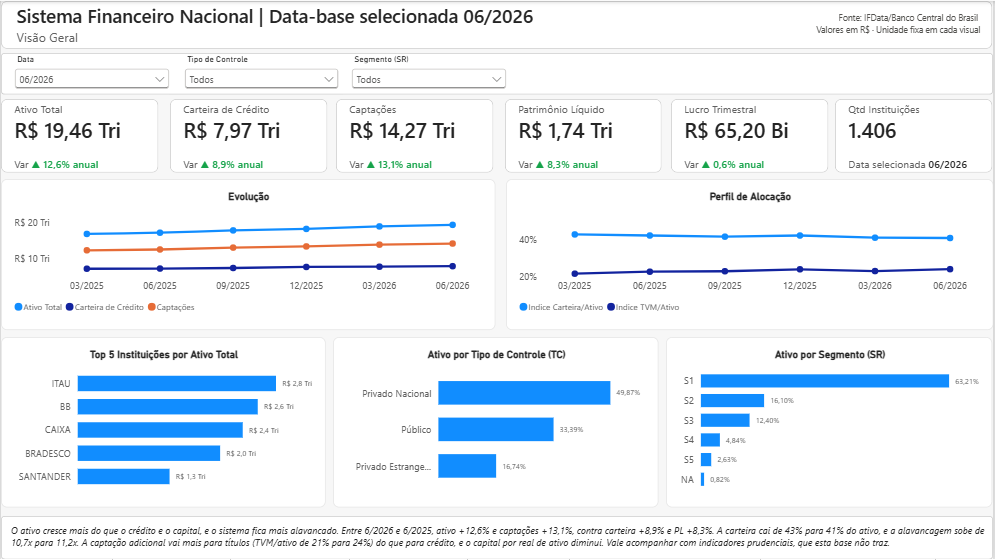

The dashboard page shown, as its layout file describes it:
{"tool":"powerbi","page":{"name":"Visão Geral","canvas":[1280,720],"ordinal":0},"visuals":[{"type":"shape","box":[0,664,1280,56],"z":0},{"type":"slicer","fields":{"Values":["dim_calendario.Rotulo"]},"box":[231.4,347.1,209.2,66.7],"z":1000},{"type":"shape","box":[0,0,1279.1,61.8],"z":2000},{"type":"shape","box":[0,66.7,1280,53.6],"z":3000},{"type":"cardVisual","fields":{"Data":["_Medidas.Titulo Pagina"]},"box":[3.8,0,747.5,61.2],"z":4000},{"type":"textbox","box":[1695,30,213.8,46.2],"z":5000},{"type":"slicer","fields":{"Values":["dim_calendario.Rotulo"]},"box":[12.7,68.5,209.1,51.8],"z":6000},{"type":"slicer","fields":{"Values":["fato_ifdata.Tipo de Controle"]},"box":[231.8,68.5,208.2,51.8],"z":7000},{"type":"slicer","fields":{"Values":["fato_ifdata.Segmento (SR)"]},"box":[447.3,68.5,209.1,51.8],"z":8000},{"type":"cardVisual","fields":{"Data":["_Medidas.Ativo Total"]},"box":[-0.1,126.5,203.9,95.5],"z":9000},{"type":"cardVisual","fields":{"Data":["_Medidas.Carteira de Crédito"]},"box":[217.9,126.5,203.9,95.5],"z":10000},{"type":"cardVisual","fields":{"Data":["_Medidas.Captações"]},"box":[432.1,126.5,203.9,95.5],"z":11000},{"type":"cardVisual","fields":{"Data":["_Medidas.Patrimônio Líquido"]},"box":[650,126.5,202.6,95.5],"z":12000},{"type":"cardVisual","fields":{"Data":["_Medidas.Qtd Instituições"]},"box":[1076.1,126.5,203.4,95.5],"z":13000},{"type":"lineChart","title":"Evolução","fields":{"Category":["dim_calendario.Rotulo"],"Y":["_Medidas.Ativo Total","_Medidas.Carteira de Crédito","_Medidas.Captações"]},"box":[0,230,637.5,195],"z":14000},{"type":"lineChart","title":"Perfil de Alocação","fields":{"Category":["dim_calendario.Rotulo"],"Y":["_Medidas.Indice Carteira/Ativo","_Medidas.Indice TVM/Ativo"]},"box":[651.2,230,628.8,195],"z":15000},{"type":"clusteredBarChart","title":"Top 5 Instituições por Ativo Total","fields":{"Category":["dim_instituicao.Instituição"],"Y":["_Medidas.Ativo Total"]},"box":[0,433.8,418.8,220],"z":16000},{"type":"clusteredBarChart","title":"Ativo por Tipo de Controle (TC)","fields":{"Category":["fato_ifdata.Tipo de Controle"],"Y":["_Medidas.% do Total Ativo"]},"box":[428.8,433.8,420,220],"z":17000},{"type":"clusteredBarChart","title":"Ativo por Segmento (SR)","fields":{"Category":["fato_ifdata.Segmento (SR)"],"Y":["_Medidas.% do Total Ativo"]},"box":[857.5,433.8,421.2,220],"z":18000},{"type":"textbox","box":[12.9,674.3,1265.7,45.7],"z":19000},{"type":"textbox","box":[1041.2,13.8,222.5,47.5],"z":20000},{"type":"cardVisual","fields":{"Data":["_Medidas.Lucro Trimestral"]},"box":[864.1,126.7,203.3,95.6],"z":21000}]}

Visuals, with their boxes in screenshot pixels (x1, y1, x2, y2), scaled from the page's 1280x720 canvas onto the 995x560 screenshot:
shape: BBox(0, 516, 994, 559)
slicer - dim_calendario.Rotulo: BBox(180, 270, 342, 322)
shape: BBox(0, 0, 994, 48)
shape: BBox(0, 52, 994, 94)
cardVisual - _Medidas.Titulo Pagina: BBox(3, 0, 584, 48)
slicer - dim_calendario.Rotulo: BBox(10, 53, 172, 94)
slicer - fato_ifdata.Tipo de Controle: BBox(180, 53, 342, 94)
slicer - fato_ifdata.Segmento (SR): BBox(348, 53, 510, 94)
cardVisual - _Medidas.Ativo Total: BBox(0, 98, 158, 173)
cardVisual - _Medidas.Carteira de Crédito: BBox(169, 98, 328, 173)
cardVisual - _Medidas.Captações: BBox(336, 98, 494, 173)
cardVisual - _Medidas.Patrimônio Líquido: BBox(505, 98, 663, 173)
cardVisual - _Medidas.Qtd Instituições: BBox(836, 98, 994, 173)
"Evolução" lineChart: BBox(0, 179, 496, 331)
"Perfil de Alocação" lineChart: BBox(506, 179, 994, 331)
"Top 5 Instituições por Ativo Total" clusteredBarChart: BBox(0, 337, 326, 509)
"Ativo por Tipo de Controle (TC)" clusteredBarChart: BBox(333, 337, 660, 509)
"Ativo por Segmento (SR)" clusteredBarChart: BBox(667, 337, 994, 509)
textbox: BBox(10, 524, 994, 559)
textbox: BBox(809, 11, 982, 48)
cardVisual - _Medidas.Lucro Trimestral: BBox(672, 99, 830, 173)
